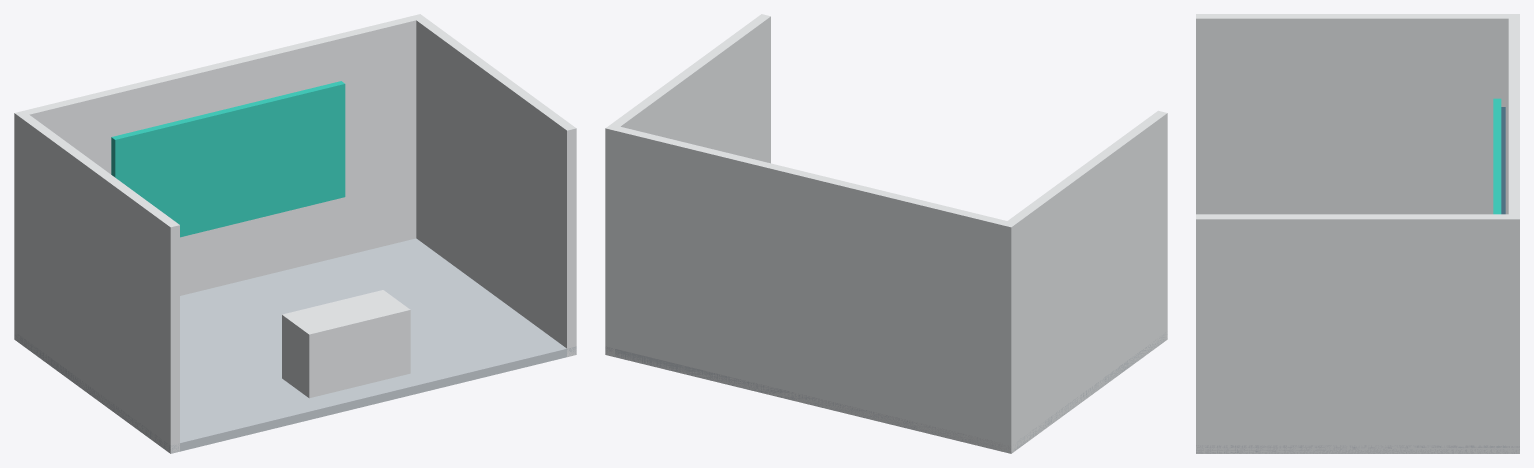
The picture shows the model from 3 angles, left to right: view 1: azimuth 30°, elevation 25°; view 2: azimuth 150°, elevation 25°; view 3: azimuth 270°, elevation 25°; orthographic projection. The views are drawn at different scales.
Parts seen in each view (by area): view 1: Exhibition Booth Concept; view 2: Exhibition Booth Concept; view 3: Exhibition Booth Concept.
Boxes of the visible parts, x1=… form: Exhibition Booth Concept: x1=14, y1=14, x2=576, y2=453; Exhibition Booth Concept: x1=605, y1=14, x2=1167, y2=453; Exhibition Booth Concept: x1=1196, y1=14, x2=1519, y2=453.
Size of the model in its own units: 6 by 3.2 by 4.
